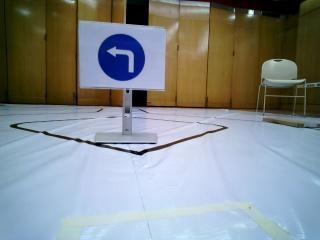left: (77, 21, 167, 91)
